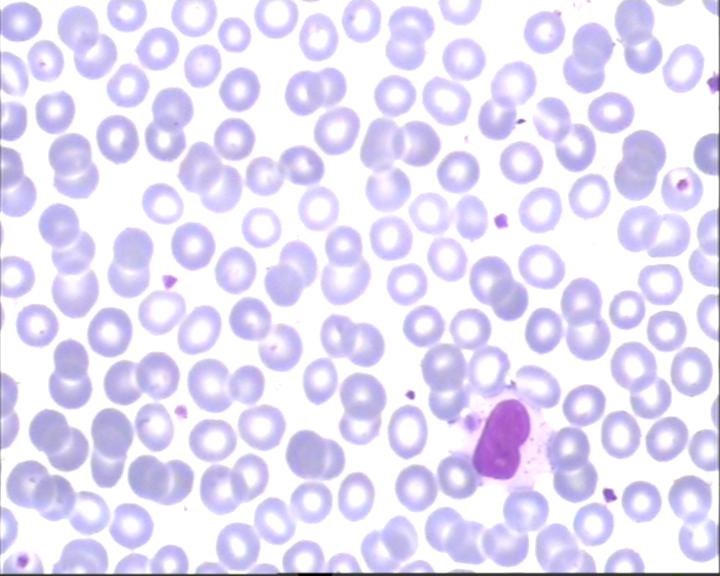mono: (453, 385, 554, 493)
